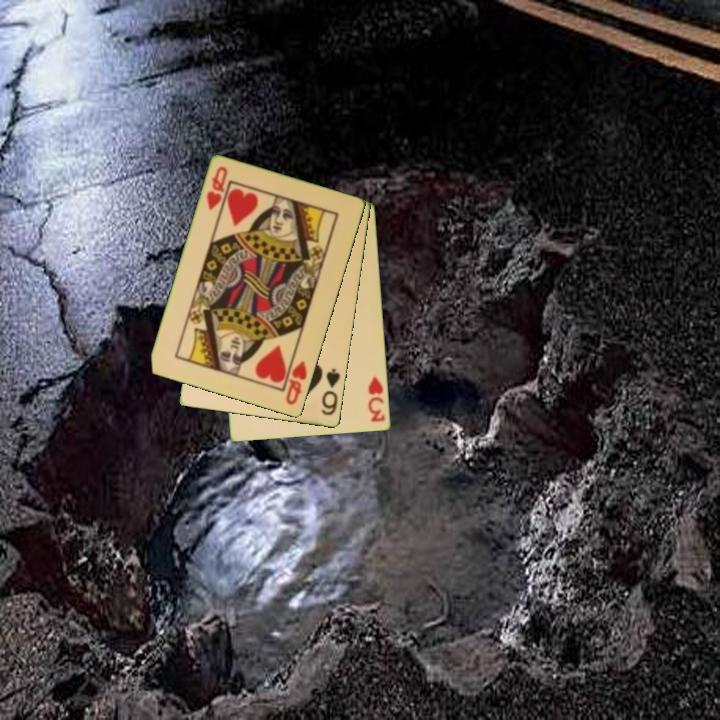3h: (365, 372, 388, 425)
6s: (318, 365, 343, 418)
Qh: (280, 352, 310, 408), (203, 163, 231, 214)
